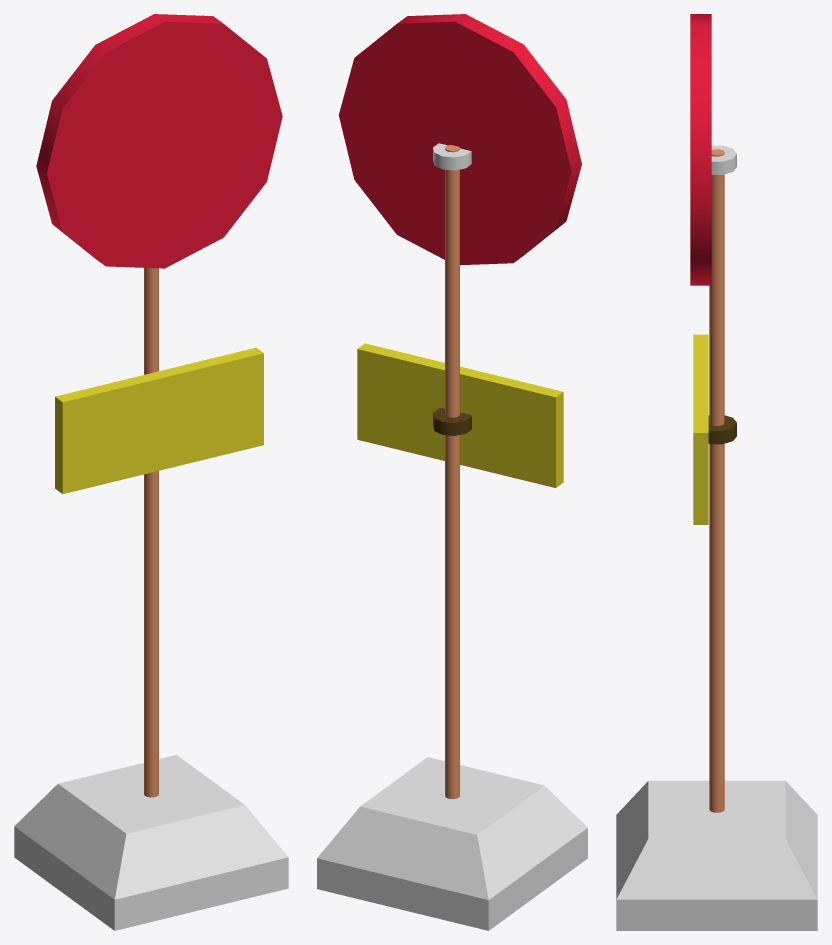
The model's file is sign 1.fbx.
3 renders of one model, left to right at view 1: azimuth 30°, elevation 25°; view 2: azimuth 150°, elevation 25°; view 3: azimuth 270°, elevation 25°, orthographic.
Visible parts, largest first — view 1: Cylinder.001, Cube, Cube.001, Cylinder; view 2: Cylinder.001, Cube, Cube.001, Cylinder, Cylinder.003, Cylinder.002; view 3: Cube, Cylinder, Cylinder.001, Cube.001, Cylinder.003, Cylinder.002.
Boxes of the visible parts, bbox=[...] form: Cylinder.001: bbox=[36, 14, 282, 268]; Cube: bbox=[14, 755, 288, 930]; Cube.001: bbox=[55, 347, 263, 493]; Cylinder: bbox=[144, 268, 158, 797]; Cylinder.001: bbox=[338, 14, 581, 265]; Cube: bbox=[317, 757, 587, 930]; Cube.001: bbox=[357, 343, 563, 487]; Cylinder: bbox=[445, 145, 459, 799]; Cylinder.003: bbox=[433, 408, 471, 435]; Cylinder.002: bbox=[433, 143, 471, 170]; Cube: bbox=[616, 780, 817, 930]; Cylinder: bbox=[709, 149, 724, 812]; Cylinder.001: bbox=[690, 14, 711, 285]; Cube.001: bbox=[693, 334, 708, 524]; Cylinder.003: bbox=[708, 415, 736, 444]; Cylinder.002: bbox=[711, 145, 736, 174].
Size of the model in its own units: 200 by 698 by 147.
